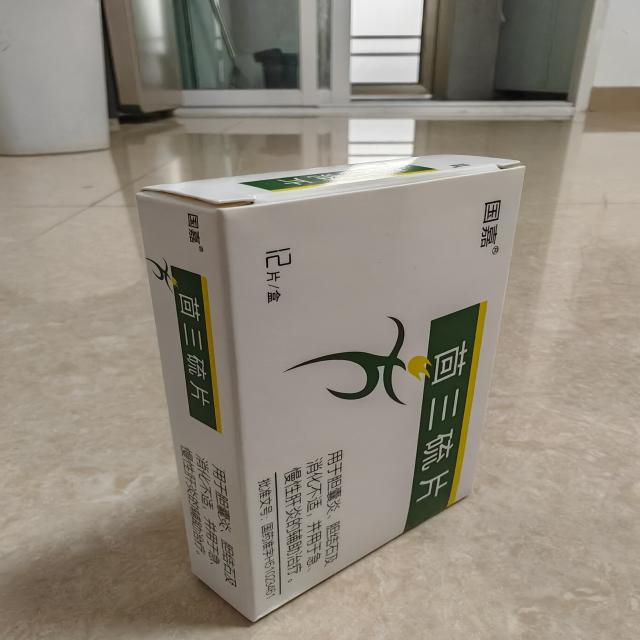box: (130, 148, 536, 626)
